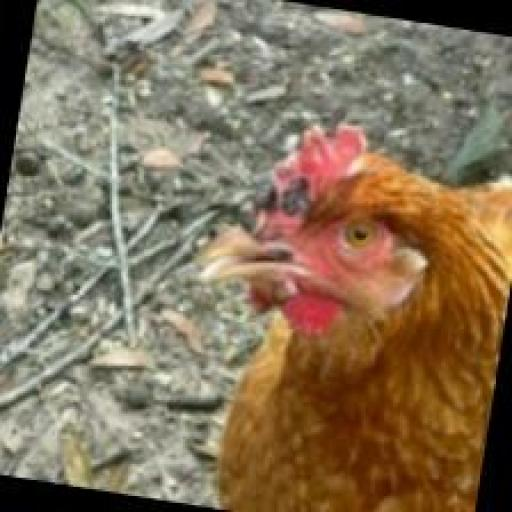disease: (230, 161, 330, 238)
